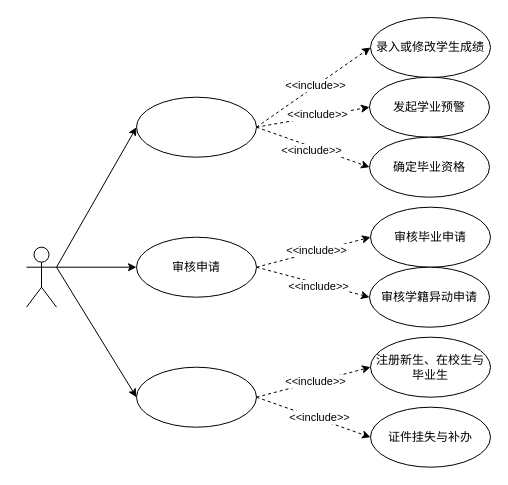
Image size: 508x485. Some labels were removed from this diagram. Here are the shapes that lost their labels. From the top down, the box of each, then its label:
(136, 96, 256, 157): 学业管理
(26, 246, 56, 307): 教务人员
(136, 366, 256, 427): 信息注册
